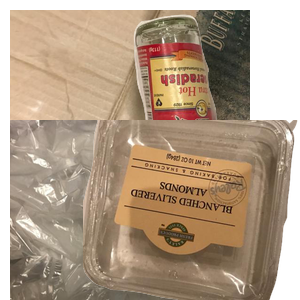cardboard: (10, 10, 250, 190)
glass: (131, 12, 300, 170)
plastic: (83, 120, 300, 300)
trash: (10, 120, 244, 300)
